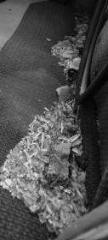glass: (0, 84, 92, 236), (48, 14, 94, 70)
